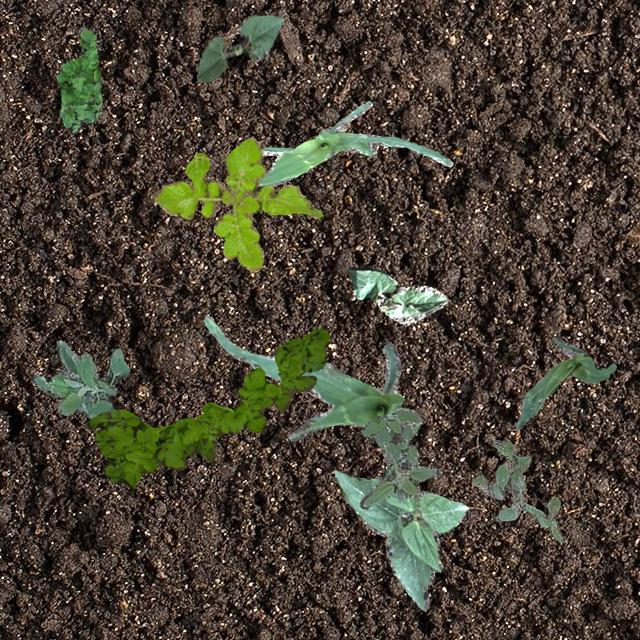crop: (204, 316, 418, 480), (333, 468, 467, 610), (256, 100, 452, 186), (514, 336, 616, 430), (346, 264, 448, 324), (195, 14, 282, 82)
weed: (85, 327, 328, 488), (152, 134, 322, 270), (472, 438, 562, 540), (358, 406, 439, 508), (30, 339, 128, 418), (54, 26, 100, 134)
